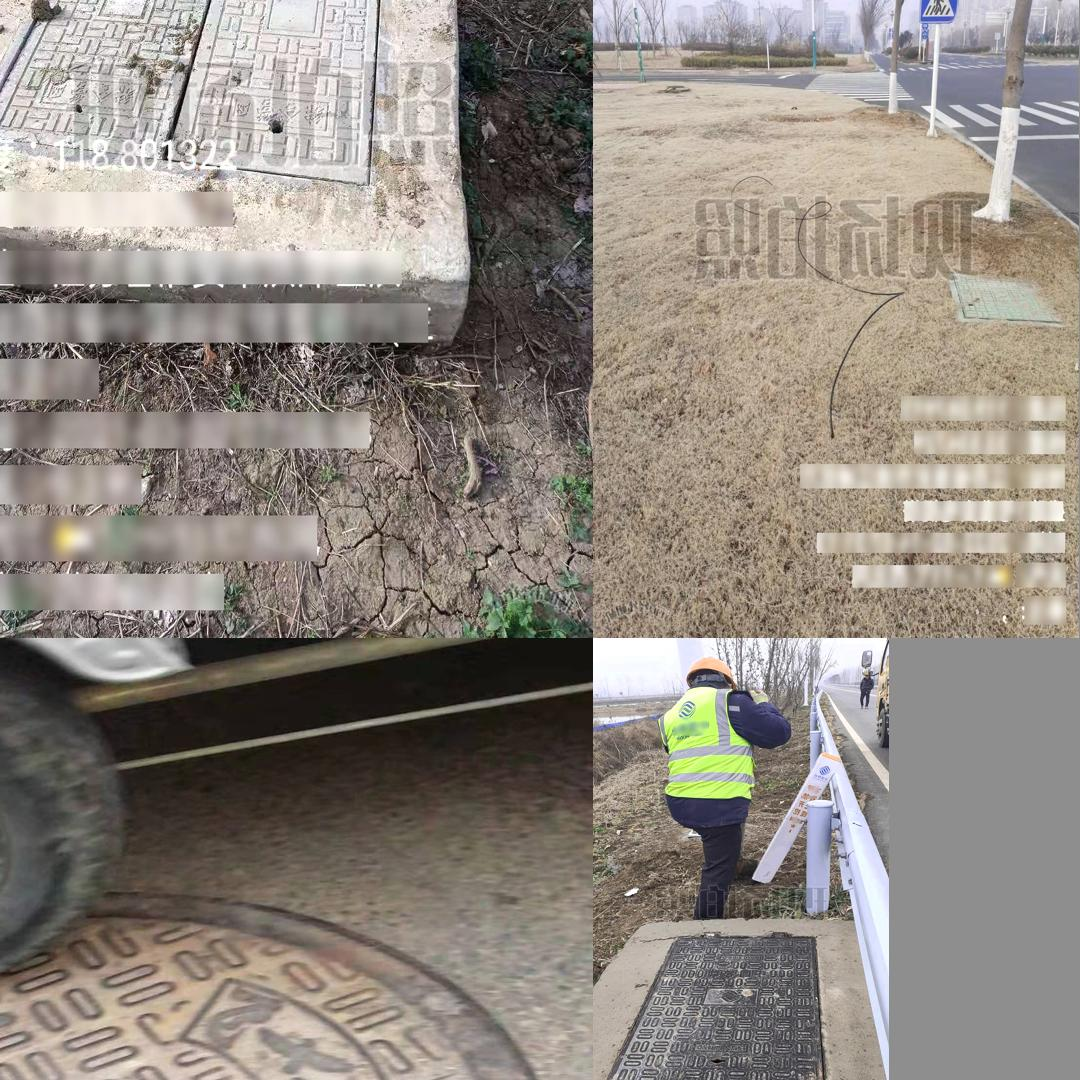good: (0, 0, 388, 192), (0, 969, 547, 1080), (601, 930, 825, 1080), (949, 269, 1064, 326)
